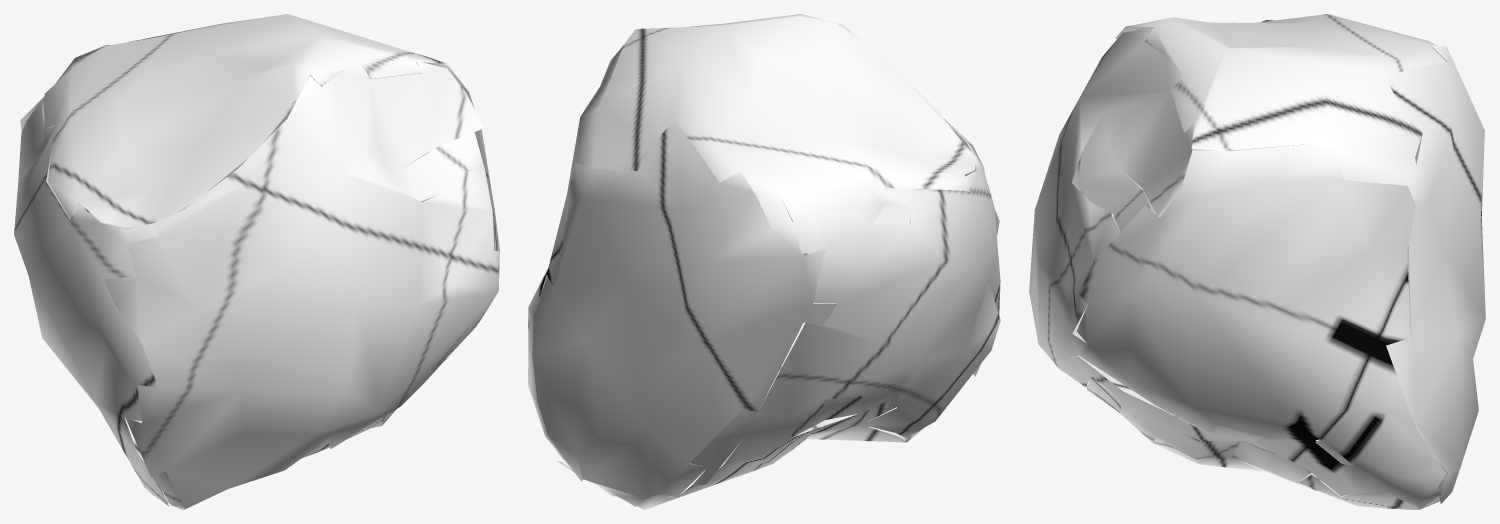
File: asteroide2.obj
3 renders of one model, left to right at view 1: azimuth 30°, elevation 25°; view 2: azimuth 150°, elevation 25°; view 3: azimuth 270°, elevation 25°, orthographic. The views are drawn at different scales.
Parts seen in each view (by area): view 1: Asteroid_no_2_Material_#3_0; view 2: Asteroid_no_2_Material_#3_0; view 3: Asteroid_no_2_Material_#3_0.
Boxes of the visible parts, left/top/right/bottom form: Asteroid_no_2_Material_#3_0: left=14, top=14, right=499, bottom=509; Asteroid_no_2_Material_#3_0: left=528, top=14, right=1000, bottom=509; Asteroid_no_2_Material_#3_0: left=1029, top=14, right=1485, bottom=509.
Bounding box in the file's own units: 0.4967 × 0.517 × 0.4586.
